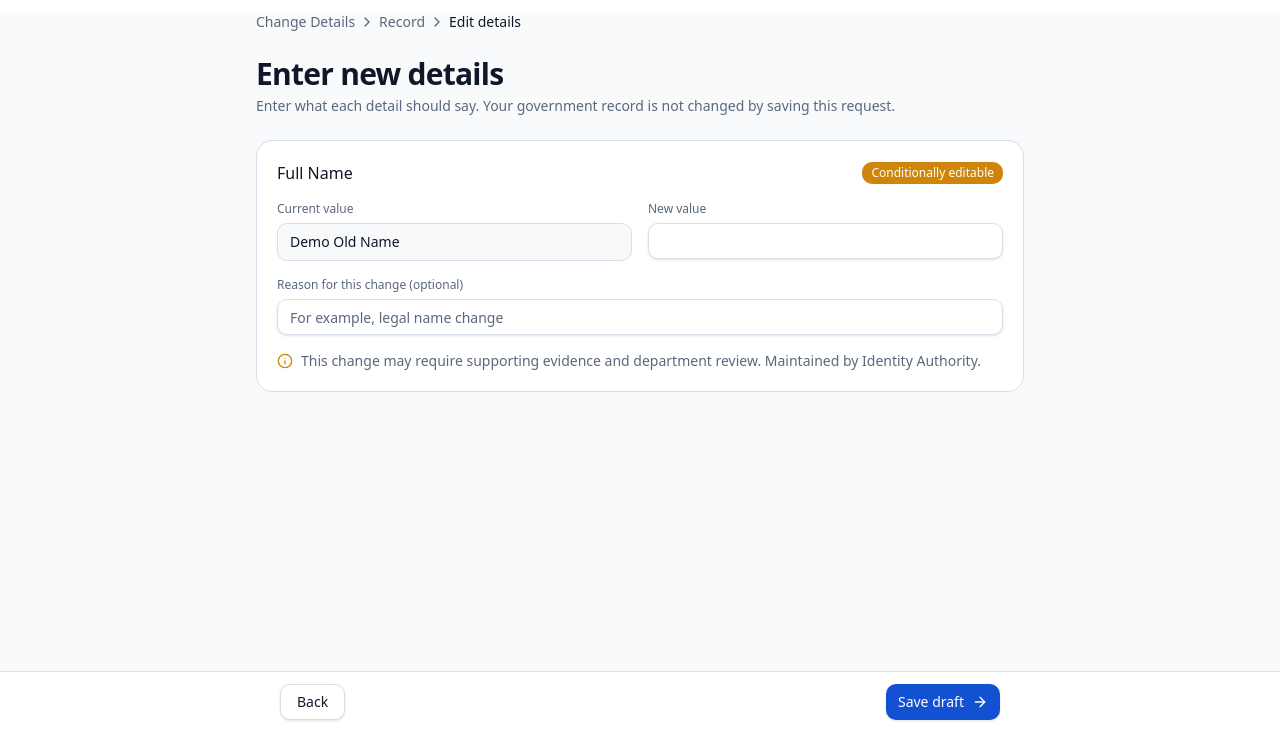
Test: the correction form › creates the draft and navigates to its own URL
This screenshot has width=1280, height=732.
In the field labelled "New value": coordinates (826, 241) [648, 223, 1003, 259], type "Demo New Name"
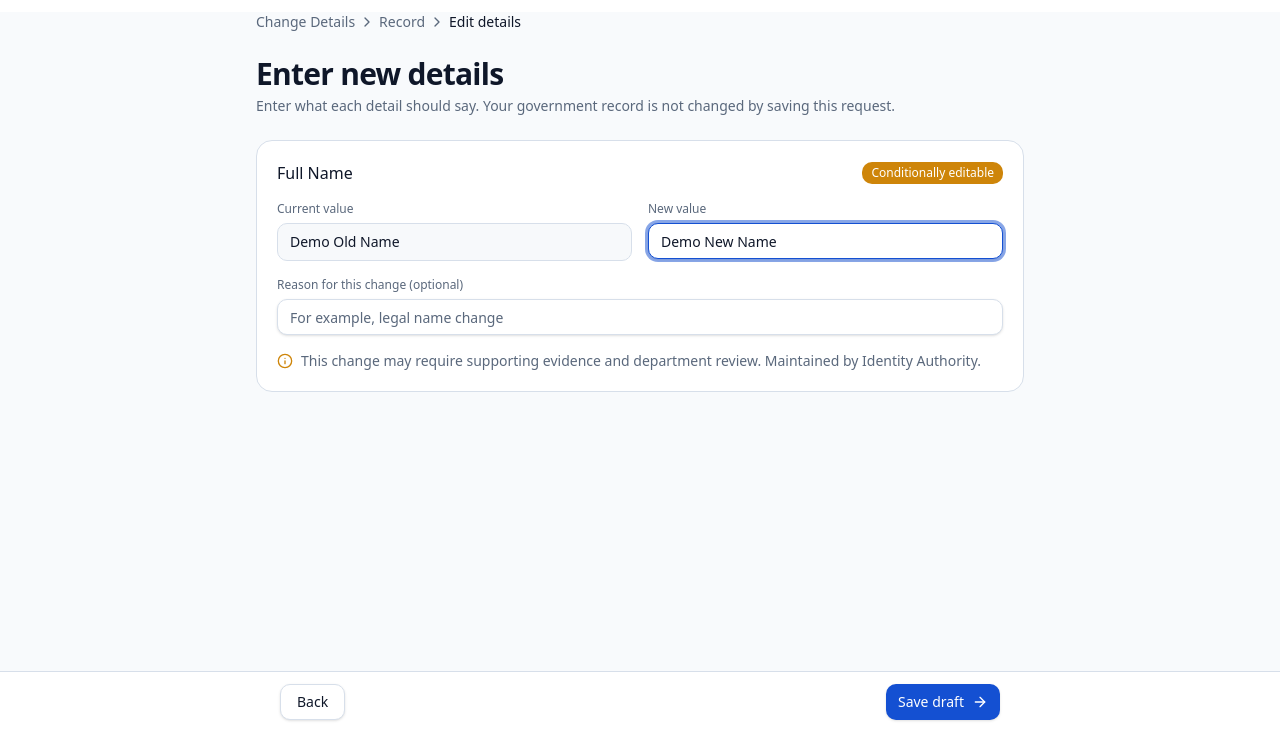
Click the button "Save draft": coordinates (943, 702) [886, 684, 1000, 720]
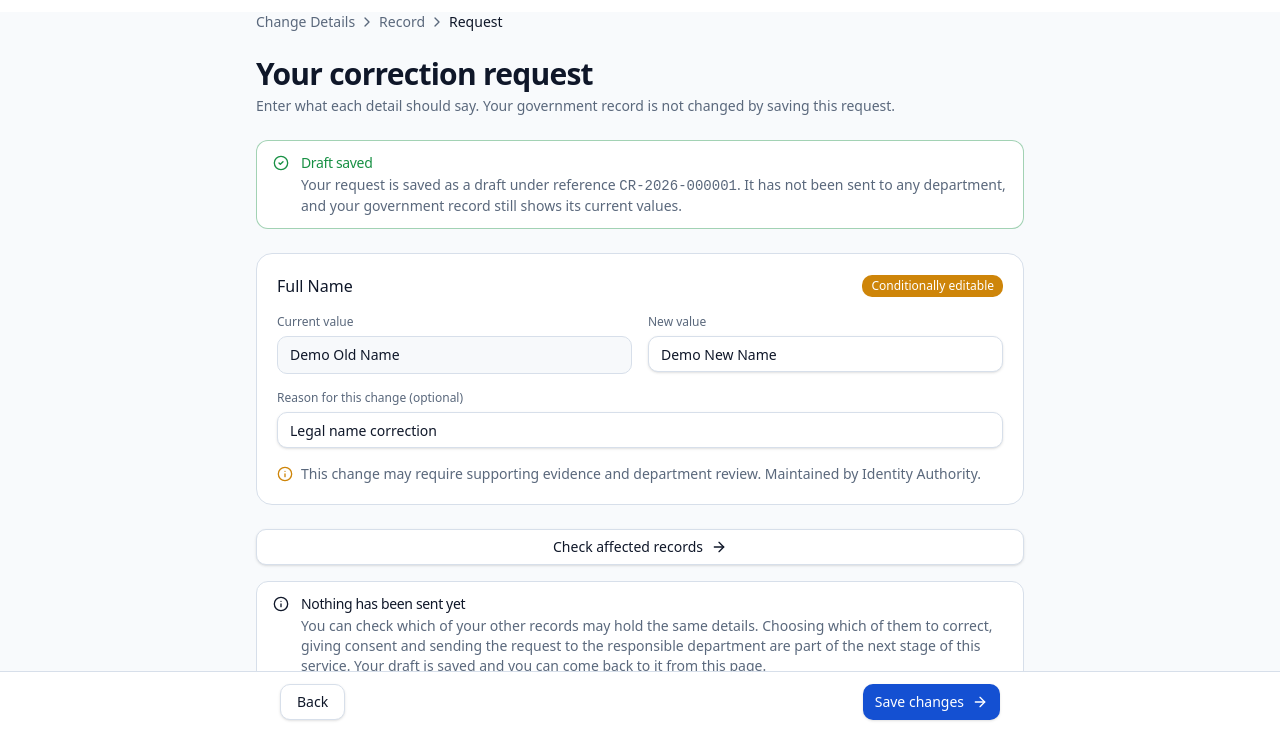
Now the text "Draft saved" is shown, box [301, 153, 372, 172]
